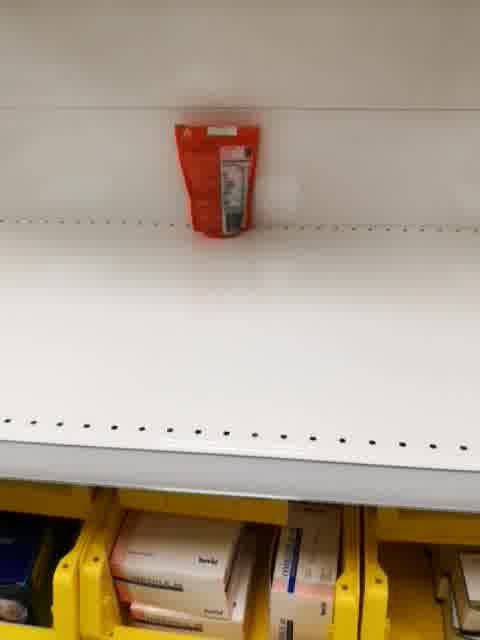whitechia: (170, 119, 262, 240)
